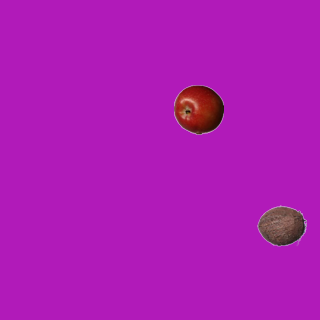Apple Braeburn: (173, 84, 223, 134)
Cocos: (256, 200, 306, 250)
